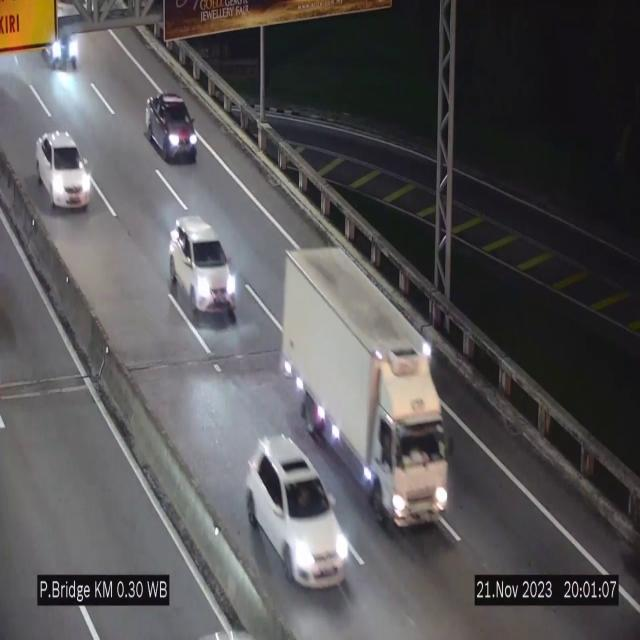Car: (246, 436, 349, 586), (168, 217, 238, 318), (36, 130, 91, 210), (145, 91, 197, 161)
Truck: (279, 243, 454, 534)
